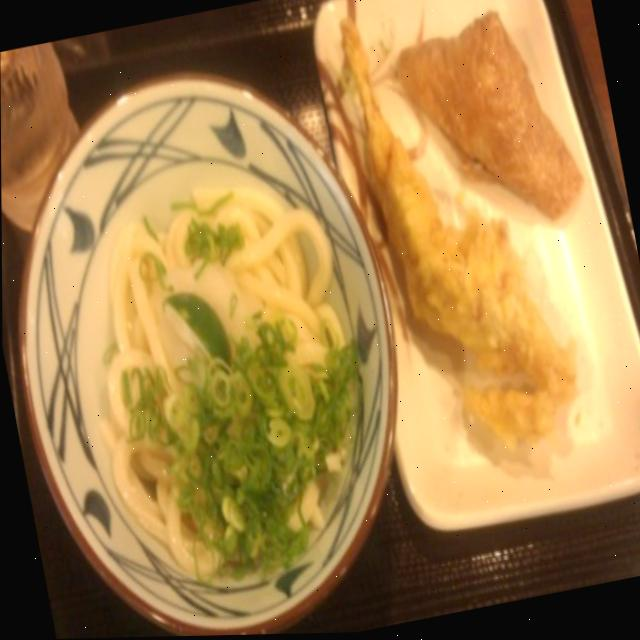面条主食: (0, 43, 443, 640)
